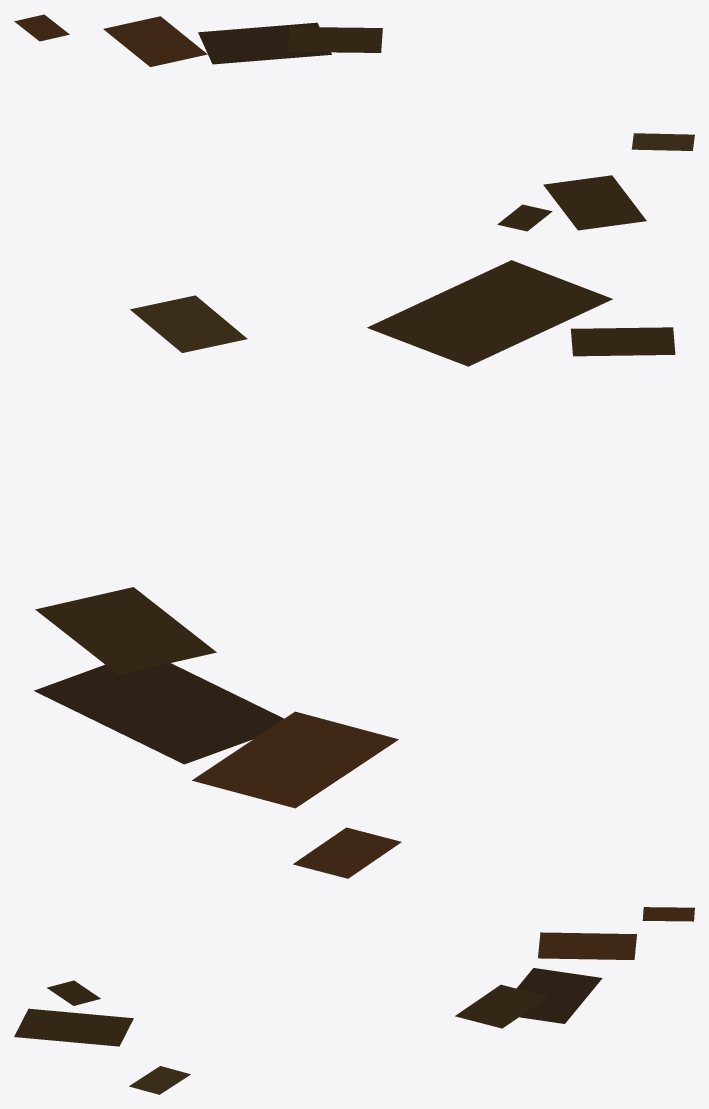
Rendered from GroundCover_ForestLeaves_02.glb.
3 views of the same model, one above another, from view 1: azimuth 30°, elevation 25°; view 2: azimuth 150°, elevation 25°; view 3: azimuth 270°, elevation 25° (orthographic). The views are drawn at different scales.
Parts seen in each view (by area): view 1: GroundCover_ForestLeaves_02; view 2: GroundCover_ForestLeaves_02; view 3: GroundCover_ForestLeaves_02.
Boxes of the visible parts, <box> form: GroundCover_ForestLeaves_02: <box>14,14,694,231</box>; GroundCover_ForestLeaves_02: <box>34,260,675,878</box>; GroundCover_ForestLeaves_02: <box>14,907,694,1094</box>.
Bounding box in the file's own units: 0.2988 × 0.00779 × 0.4659.
